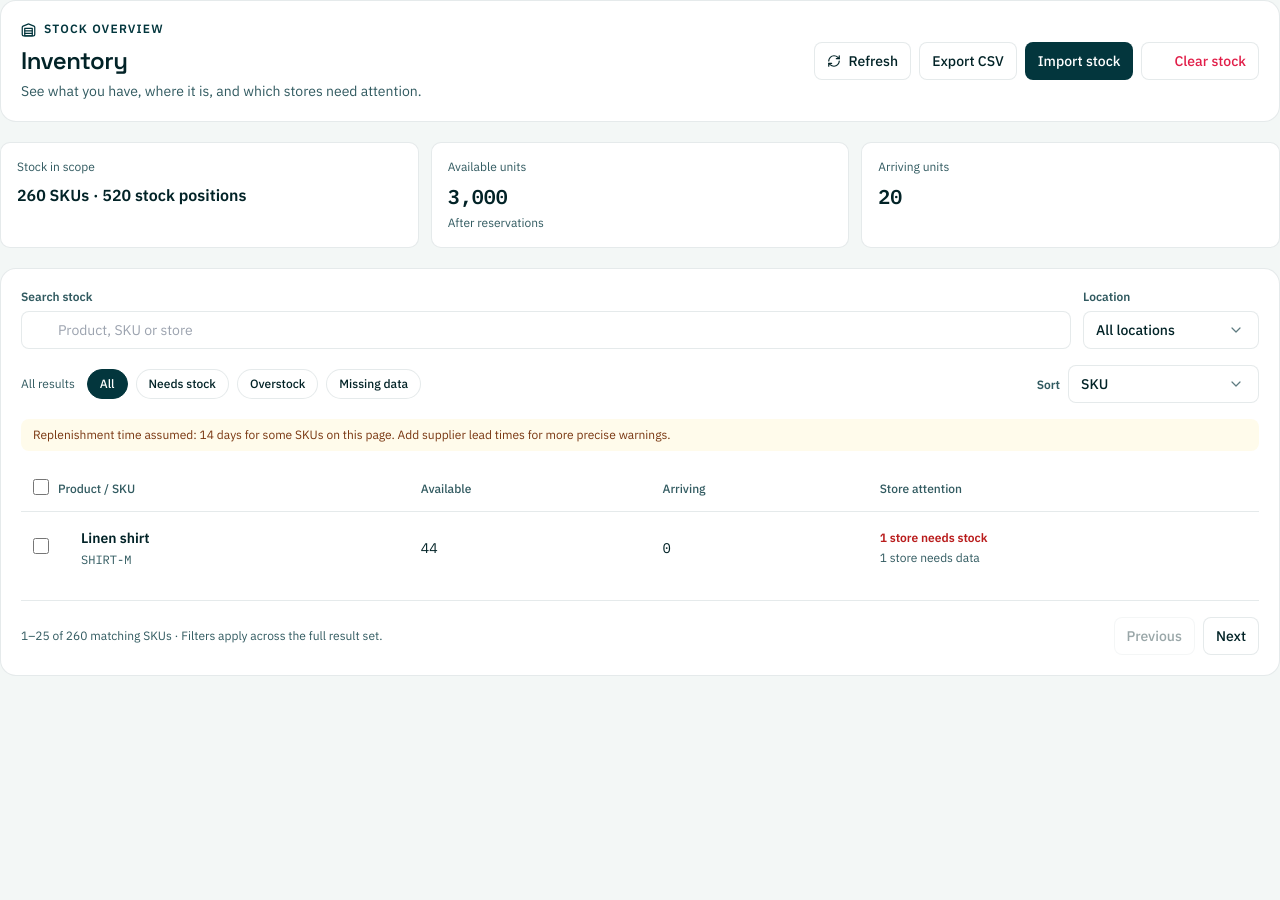
Test: shows a saved recommendation only for its exact SKU and destination store
The image size is (1280, 900).
Click the button with aria-label "show stores for shirt-m" at (104, 548), box left=58, top=528, right=150, bottom=568
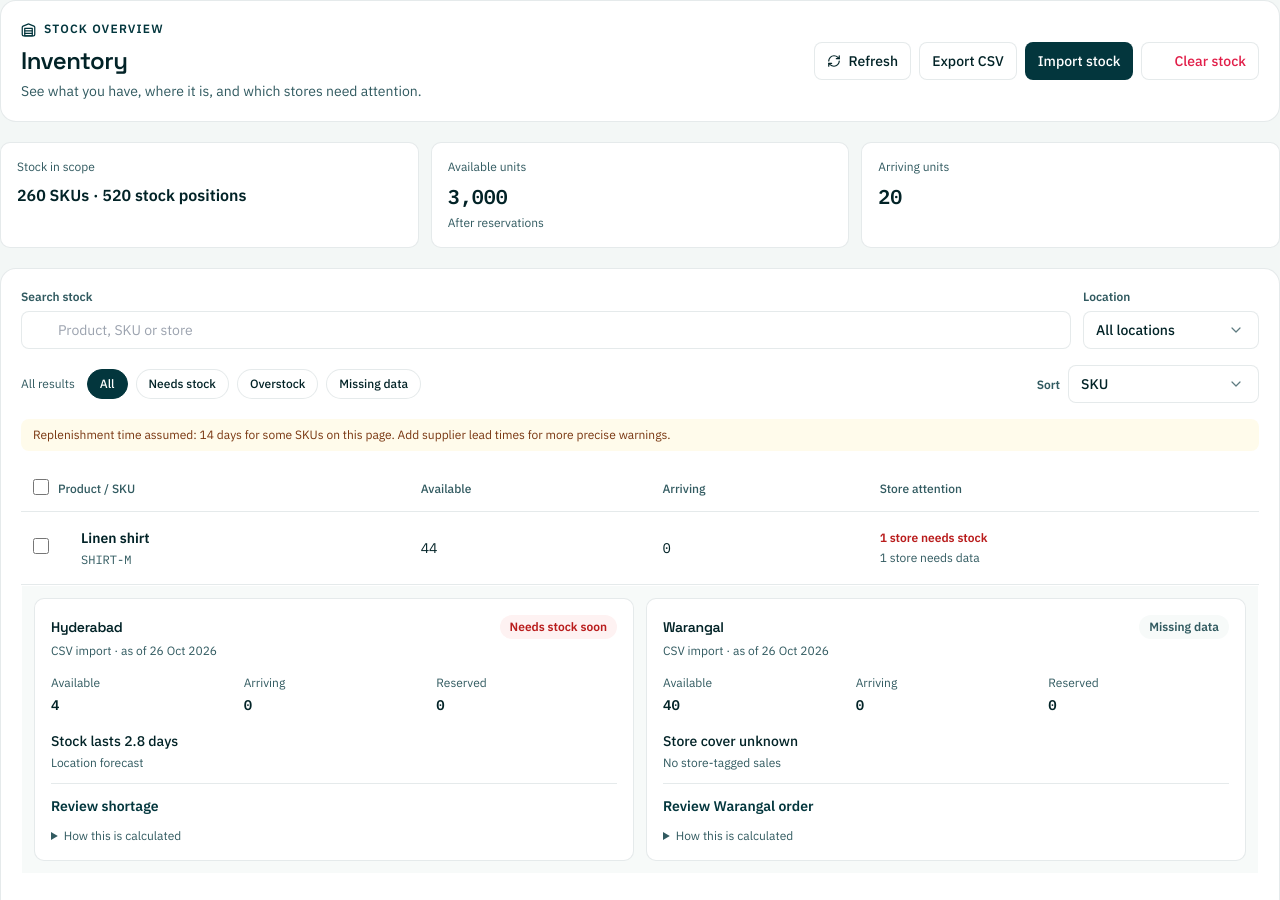
Check: the link "Review shortage" is shown, box left=51, top=797, right=158, bottom=815
Check: the link "Review Warangal order" is shown, box left=663, top=797, right=814, bottom=815
